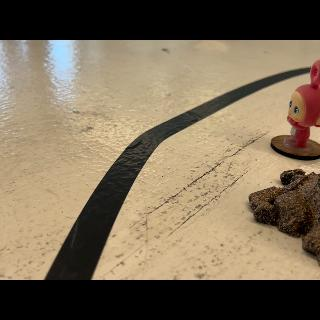teletubby: (286, 60, 320, 148)
